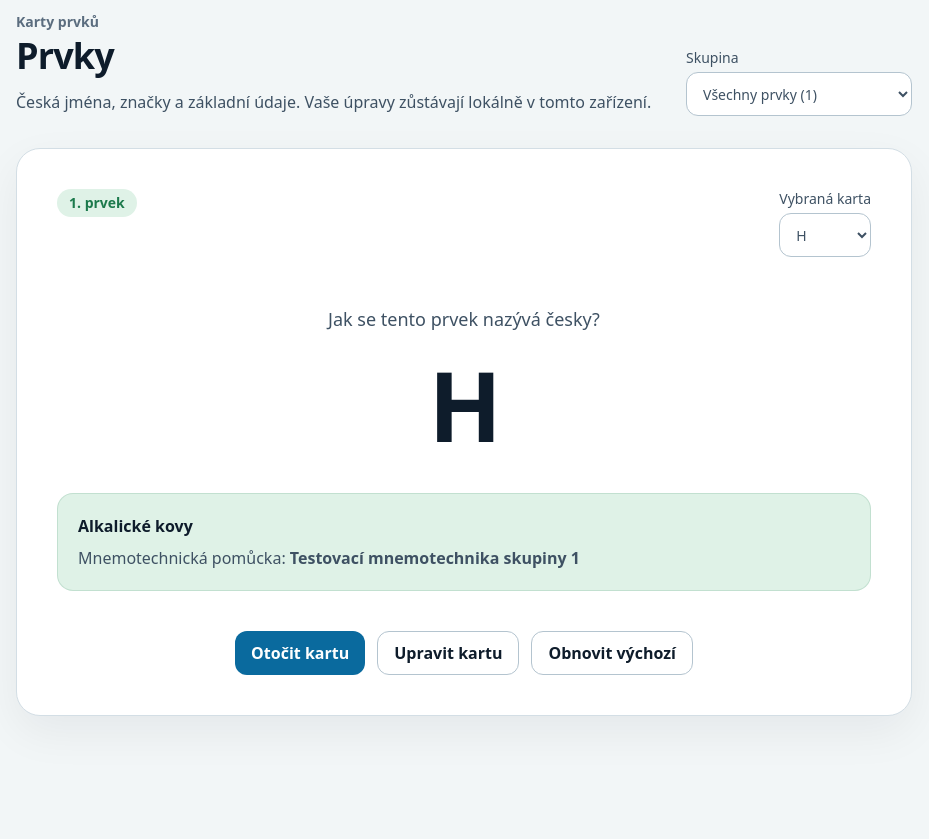
Scenario: ElementFlashcards › keeps previously stored custom elements out of the card list
This screenshot has width=929, height=839.
Click the button "Otočit kartu" at (300, 653), box [235,631,365,675]
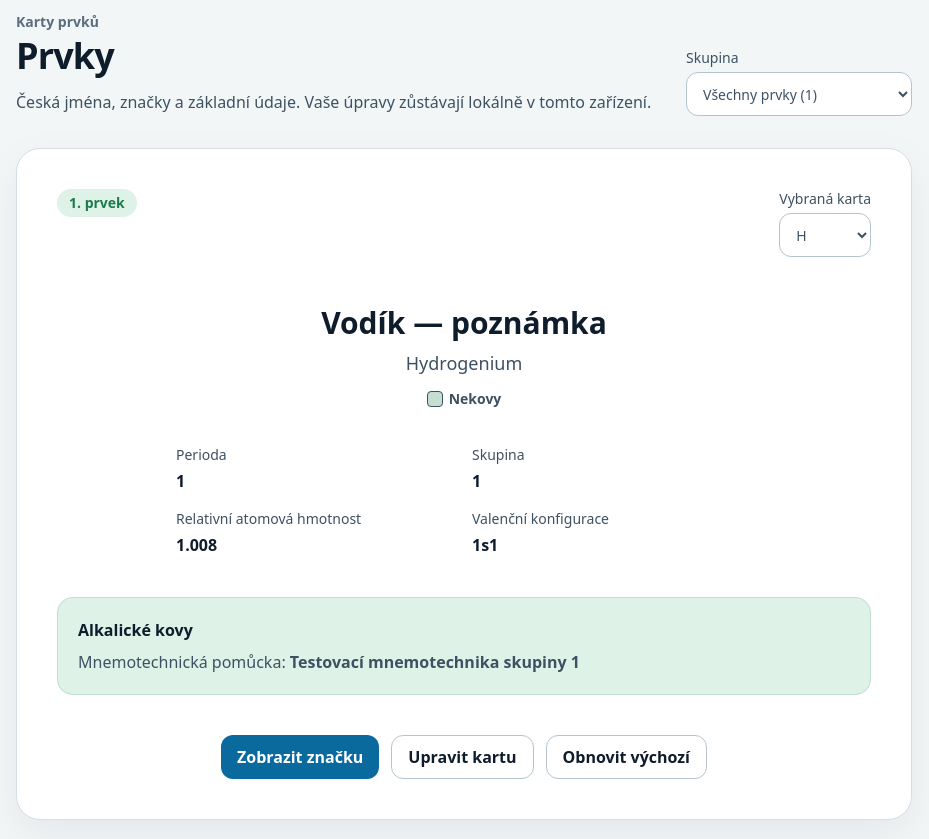
Result: the heading "Vodík — poznámka" is shown at [321,302,607,343]
